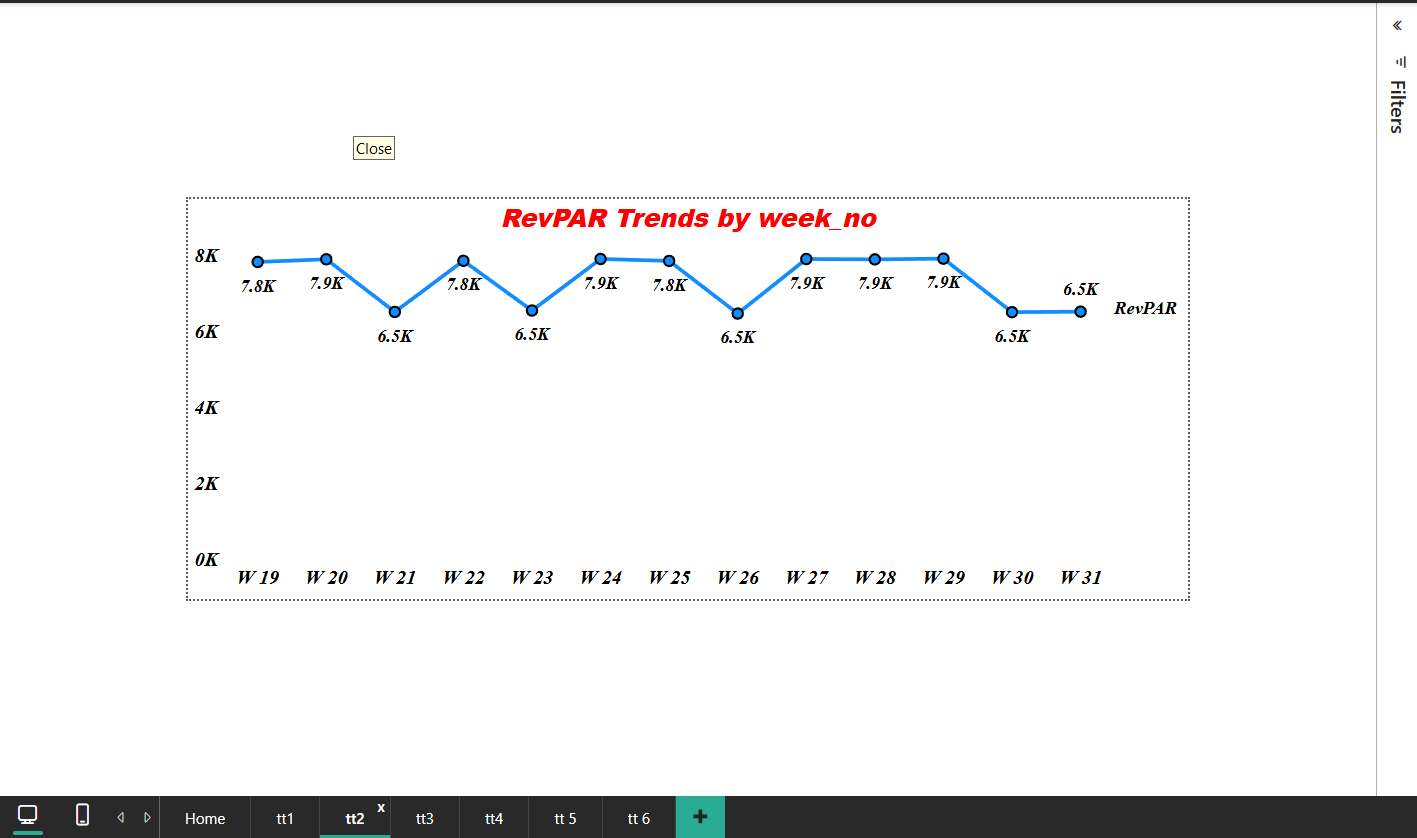

What the dashboard file says about the page in this screenshot:
{"tool":"powerbi","page":{"name":"tt2","canvas":[800,320],"ordinal":2},"visuals":[{"type":"lineChart","title":"RevPAR Trends by week_no","fields":{"Y":["Imp measures.RevPAR"],"Category":["dim_date.week_no"]},"box":[0,0,800,320],"z":0}]}

Visuals, with their boxes on the page's 800x320 design canvas (x1, y1, x2, y2). These are canvas units, not pixel positions in the 1417x838 screenshot, which may show the page scaled, cropped or inside an application window:
"RevPAR Trends by week_no" lineChart: bbox=[0, 0, 800, 320]
